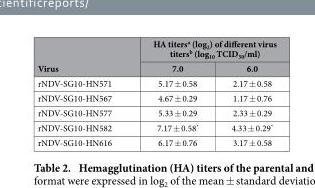table: (36, 37, 275, 148)
table column: (36, 37, 131, 148), (131, 37, 214, 148), (214, 37, 275, 148)
table column header: (36, 37, 275, 75)
table row: (36, 37, 275, 60), (36, 60, 275, 75), (36, 75, 275, 90), (36, 90, 275, 105), (36, 119, 275, 134), (36, 105, 275, 119), (36, 134, 275, 148)
table spanning cell: (36, 37, 131, 75), (131, 37, 275, 60)
